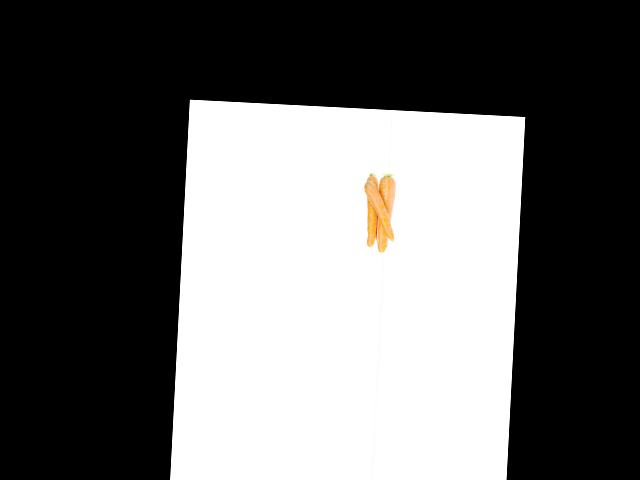carrot: (377, 172, 396, 256)
